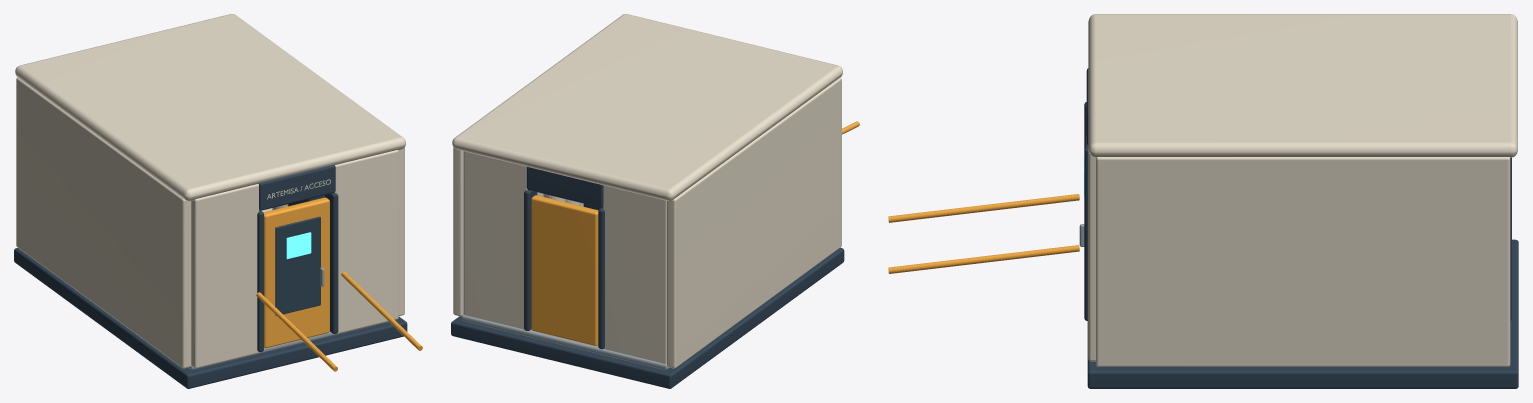
File: airlock.glb
3 views of the same model, side by side, from view 1: azimuth 30°, elevation 25°; view 2: azimuth 150°, elevation 25°; view 3: azimuth 270°, elevation 25° (orthographic). The views are drawn at different scales.
Visible parts, largest first — view 1: Body, Cover, Door_1; view 2: Body, Cover, Door_0; view 3: Body, Cover.
Part boxes in pixels (box(x1,y1,x2,y2)): Body: box(14, 77, 422, 388); Cover: box(15, 14, 405, 200); Door_1: box(263, 197, 329, 348); Body: box(451, 77, 859, 388); Cover: box(452, 14, 842, 200); Door_0: box(531, 195, 598, 345); Body: box(888, 68, 1518, 388); Cover: box(1088, 14, 1517, 157).
Size of the model in its own units: 3.84 by 3.26 by 7.61.
